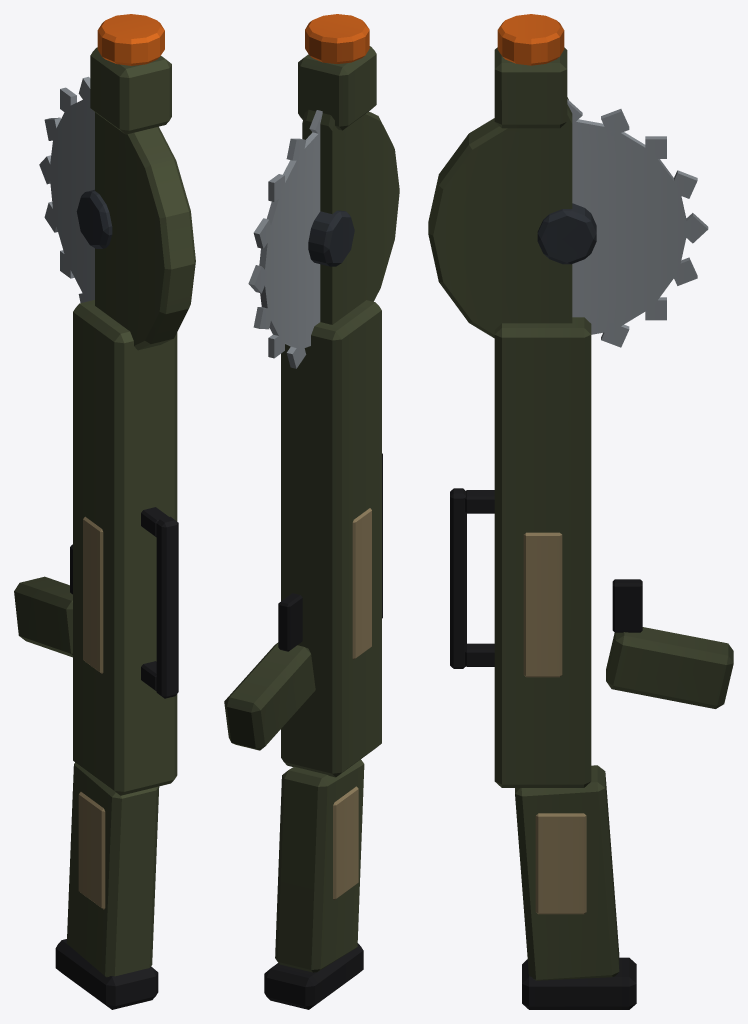
The model's file is ripper.glb.
The picture shows the model from 3 angles, left to right: view 1: azimuth 30°, elevation 25°; view 2: azimuth 150°, elevation 25°; view 3: azimuth 270°, elevation 25°; orthographic projection. The views are drawn at different scales.
Parts seen in each view (by area): view 1: ripper; view 2: ripper; view 3: ripper.
Boxes of the visible parts, x1,y1,x2,y2 form: ripper: [14, 14, 195, 1009]; ripper: [224, 14, 399, 1009]; ripper: [428, 14, 733, 1009].
Bounding box in the file's own units: 0.064 × 0.8892 × 0.2529.
